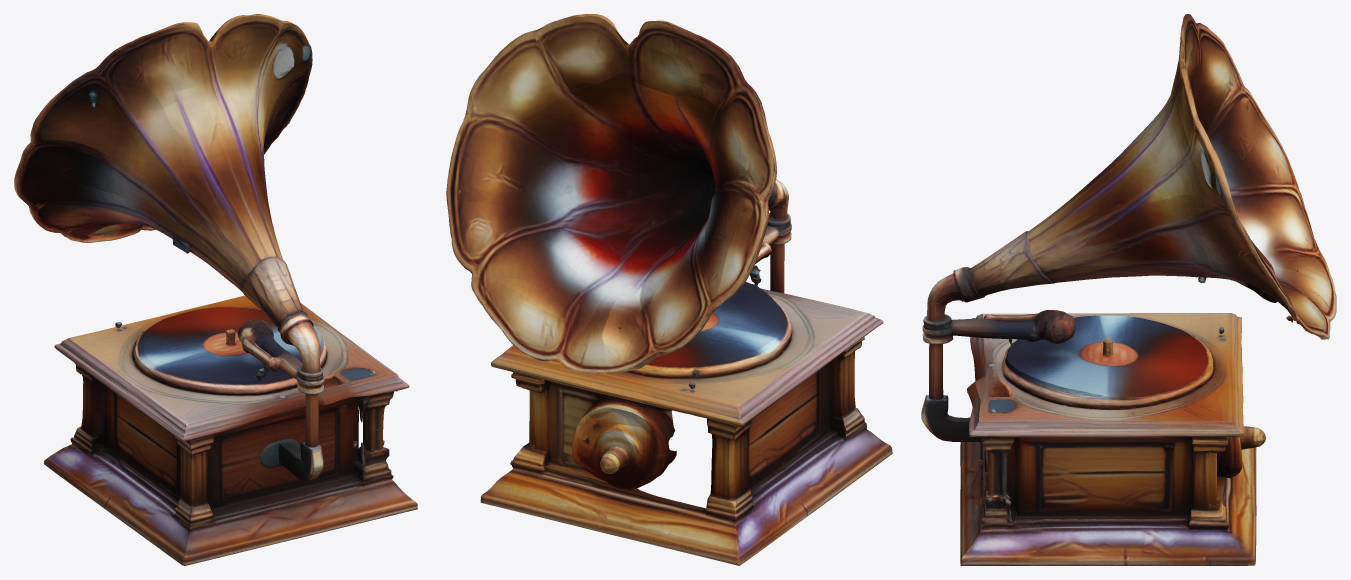
File: typical_misc_phonograph_demo_trellis.glb
3 views of the same model, side by side, from view 1: azimuth 30°, elevation 25°; view 2: azimuth 150°, elevation 25°; view 3: azimuth 270°, elevation 25° (orthographic). The views are drawn at different scales.
Parts seen in each view (by area): view 1: world; view 2: world; view 3: world.
Boxes of the visible parts, box(x1,y1,x2,y2) form: world: box(14, 14, 417, 565); world: box(446, 14, 892, 565); world: box(921, 14, 1336, 565).
Bounding box in the file's own units: 0.664 × 0.9938 × 0.8023.
Materials: 1 (1 with a texture image).
